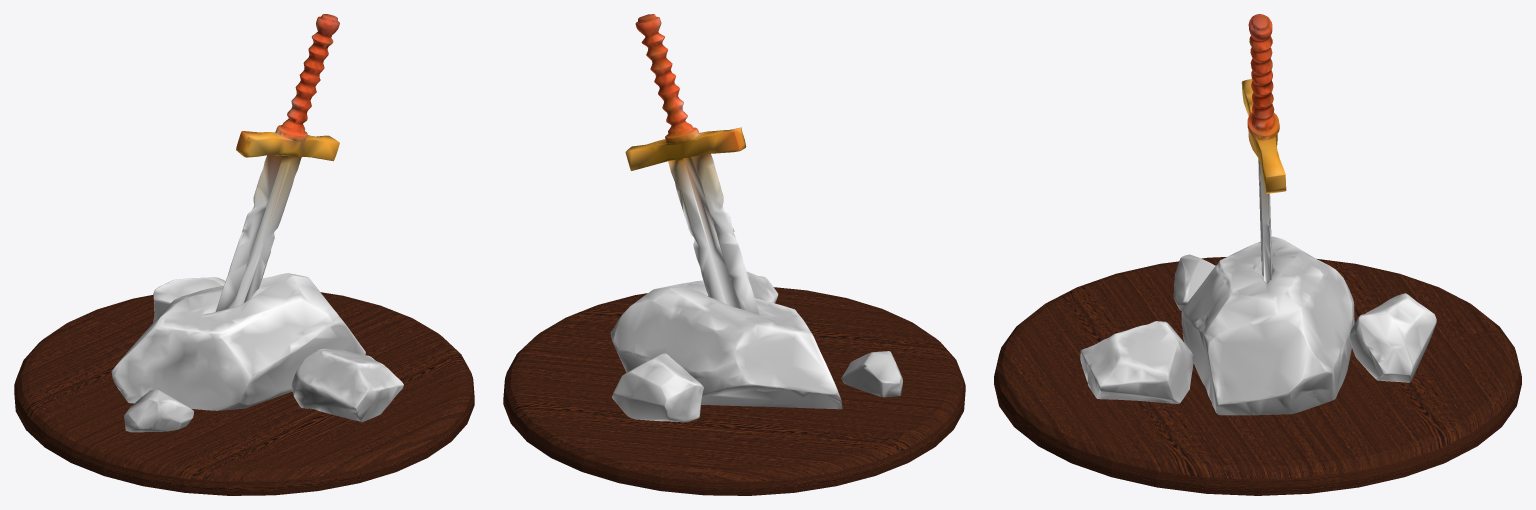
The model's file is sword.glb.
3 views of the same model, side by side, from view 1: azimuth 30°, elevation 25°; view 2: azimuth 150°, elevation 25°; view 3: azimuth 270°, elevation 25° (orthographic). The views are drawn at different scales.
Visible parts, largest first — view 1: Circle, stone, sword; view 2: Circle, stone, sword; view 3: Circle, stone, sword.
Boxes of the visible parts, box(x1,y1,x2,y2) form: Circle: box(14, 292, 474, 495); stone: box(111, 273, 403, 432); sword: box(215, 14, 339, 311); Circle: box(503, 287, 965, 495); stone: box(610, 271, 902, 422); sword: box(625, 14, 759, 313); Circle: box(994, 257, 1521, 495); stone: box(1080, 236, 1436, 415); sword: box(1241, 14, 1286, 282).
Bounding box in the file's own units: 2.66 × 2.39 × 2.66.
3 materials, 1 textured.
